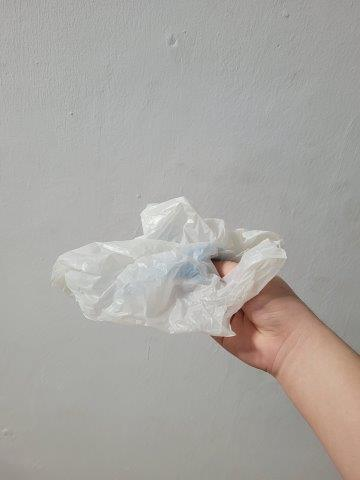plastik: (56, 198, 287, 334)
